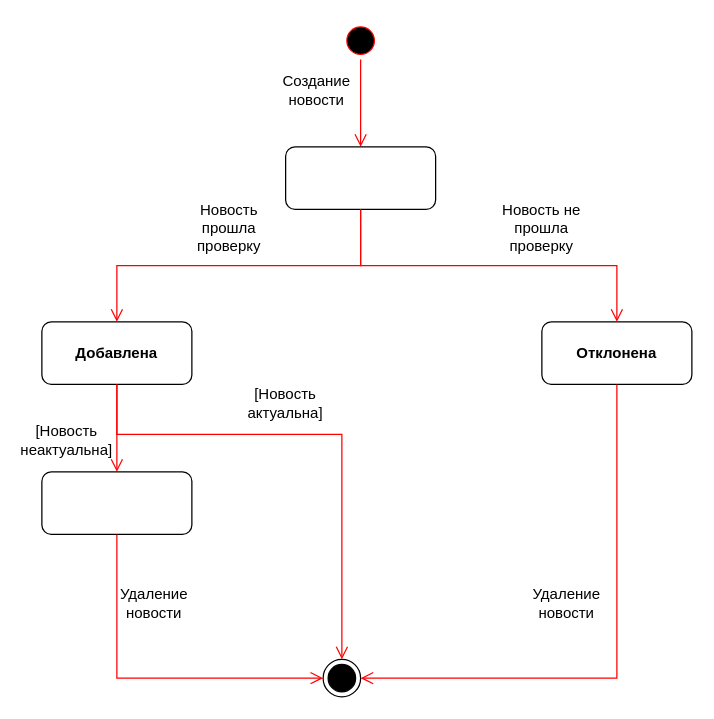
This 714x719 diagram has some shape labels left out. The box of each missing label's shape, as (x1, y1, x2, y2) in pixels:
Новая: (284, 146, 436, 209)
Устарела: (41, 471, 192, 534)
